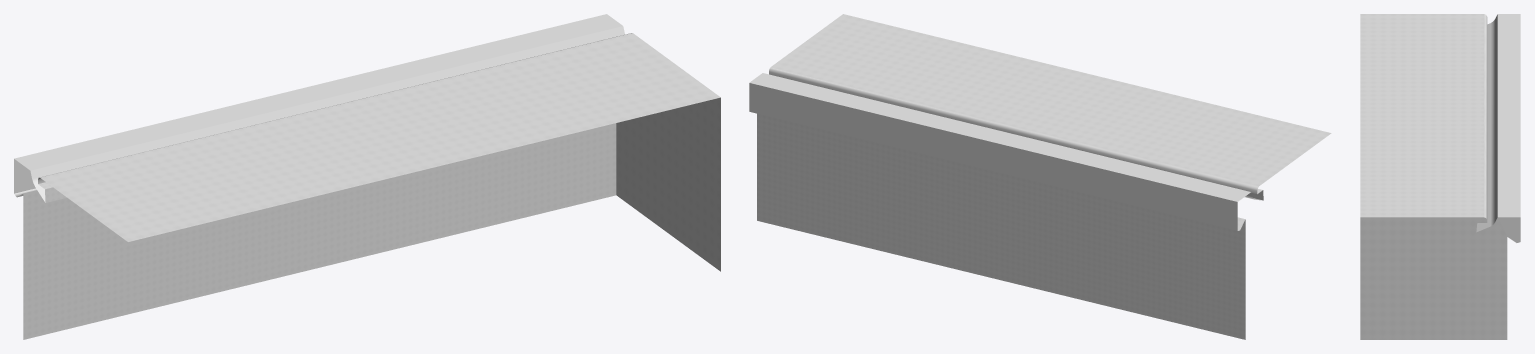
File: SM_Grond_05.fbx
3 views of the same model, side by side, from view 1: azimuth 30°, elevation 25°; view 2: azimuth 150°, elevation 25°; view 3: azimuth 270°, elevation 25° (orthographic). The views are drawn at different scales.
Visible parts, largest first — view 1: SM_Grond_05; view 2: SM_Grond_05; view 3: SM_Grond_05.
Boxes of the visible parts, left/top/right/bottom form: SM_Grond_05: left=14, top=14, right=720, bottom=339; SM_Grond_05: left=749, top=14, right=1331, bottom=339; SM_Grond_05: left=1360, top=14, right=1520, bottom=339.
Size of the model in its own units: 300 by 84.32 by 100.
